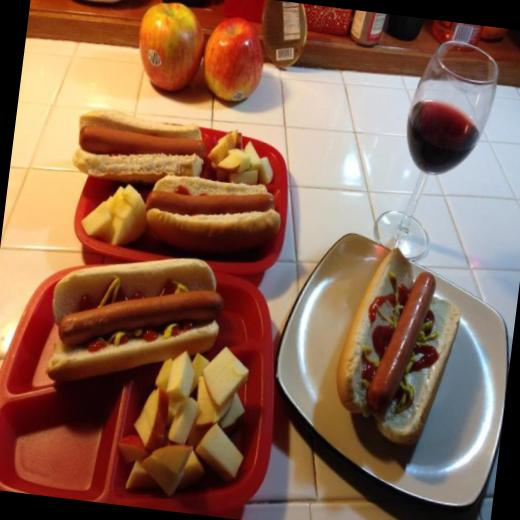Apple: (112, 332, 260, 504), (125, 0, 206, 87), (199, 11, 268, 106), (78, 180, 151, 248), (199, 124, 280, 184)
